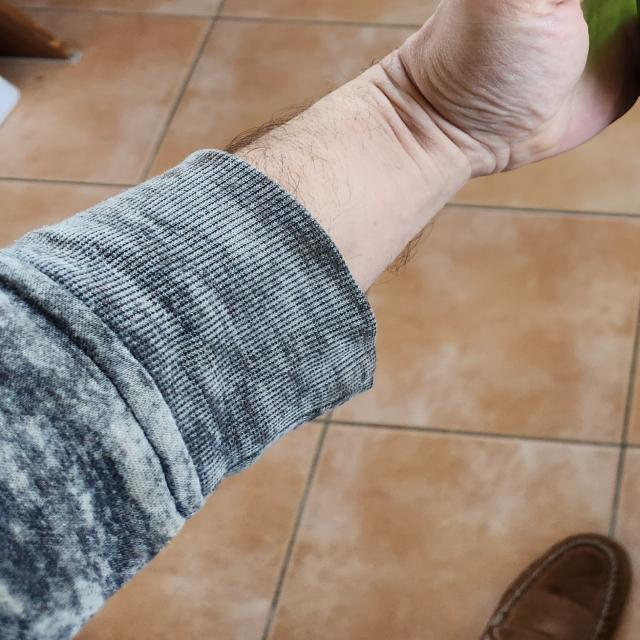balsamic vinegar: (627, 0, 640, 259)
